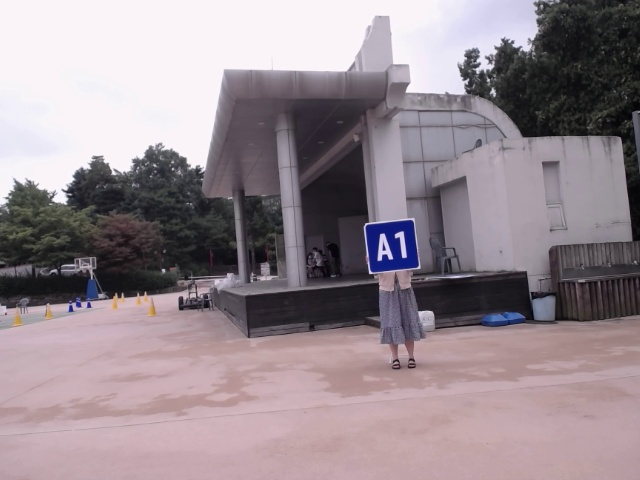delivery_a1: (364, 219, 420, 273)
